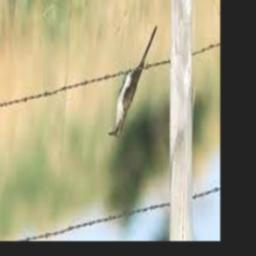Cuckoo: (107, 25, 157, 139)
